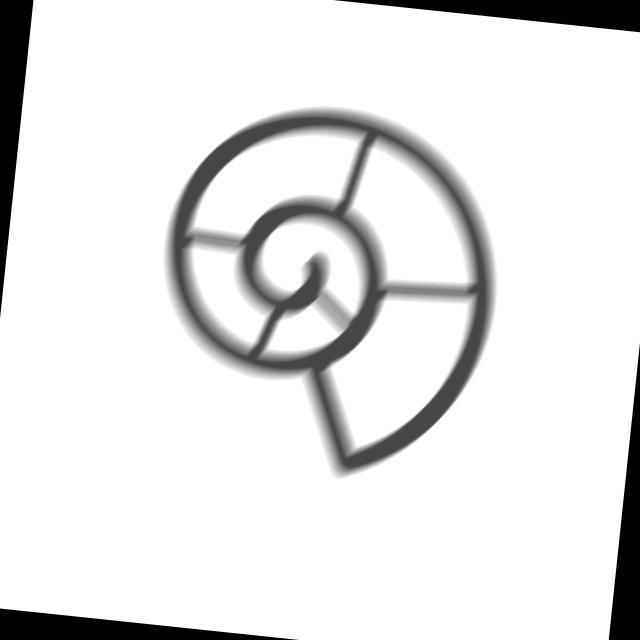fossil: (137, 87, 521, 501)
